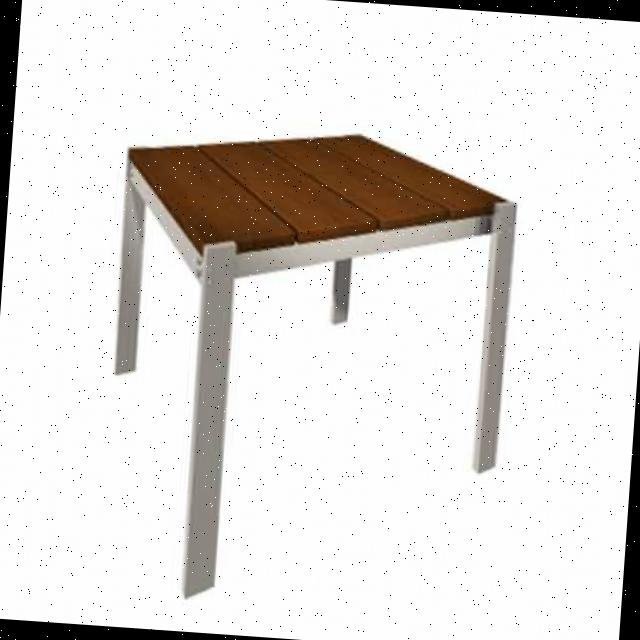Table: (8, 78, 602, 630)
